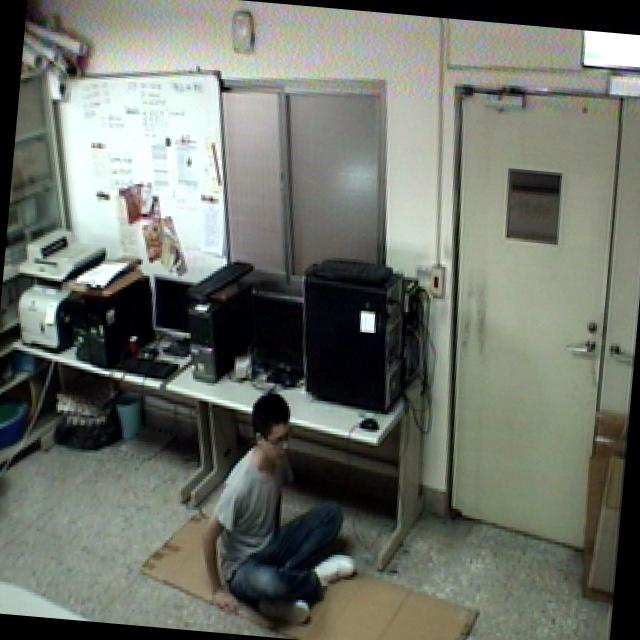sit: (192, 375, 374, 634)
